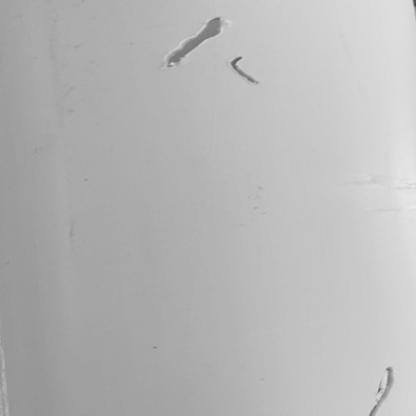fengxi: (163, 16, 227, 66), (360, 360, 397, 416), (230, 53, 260, 84)
